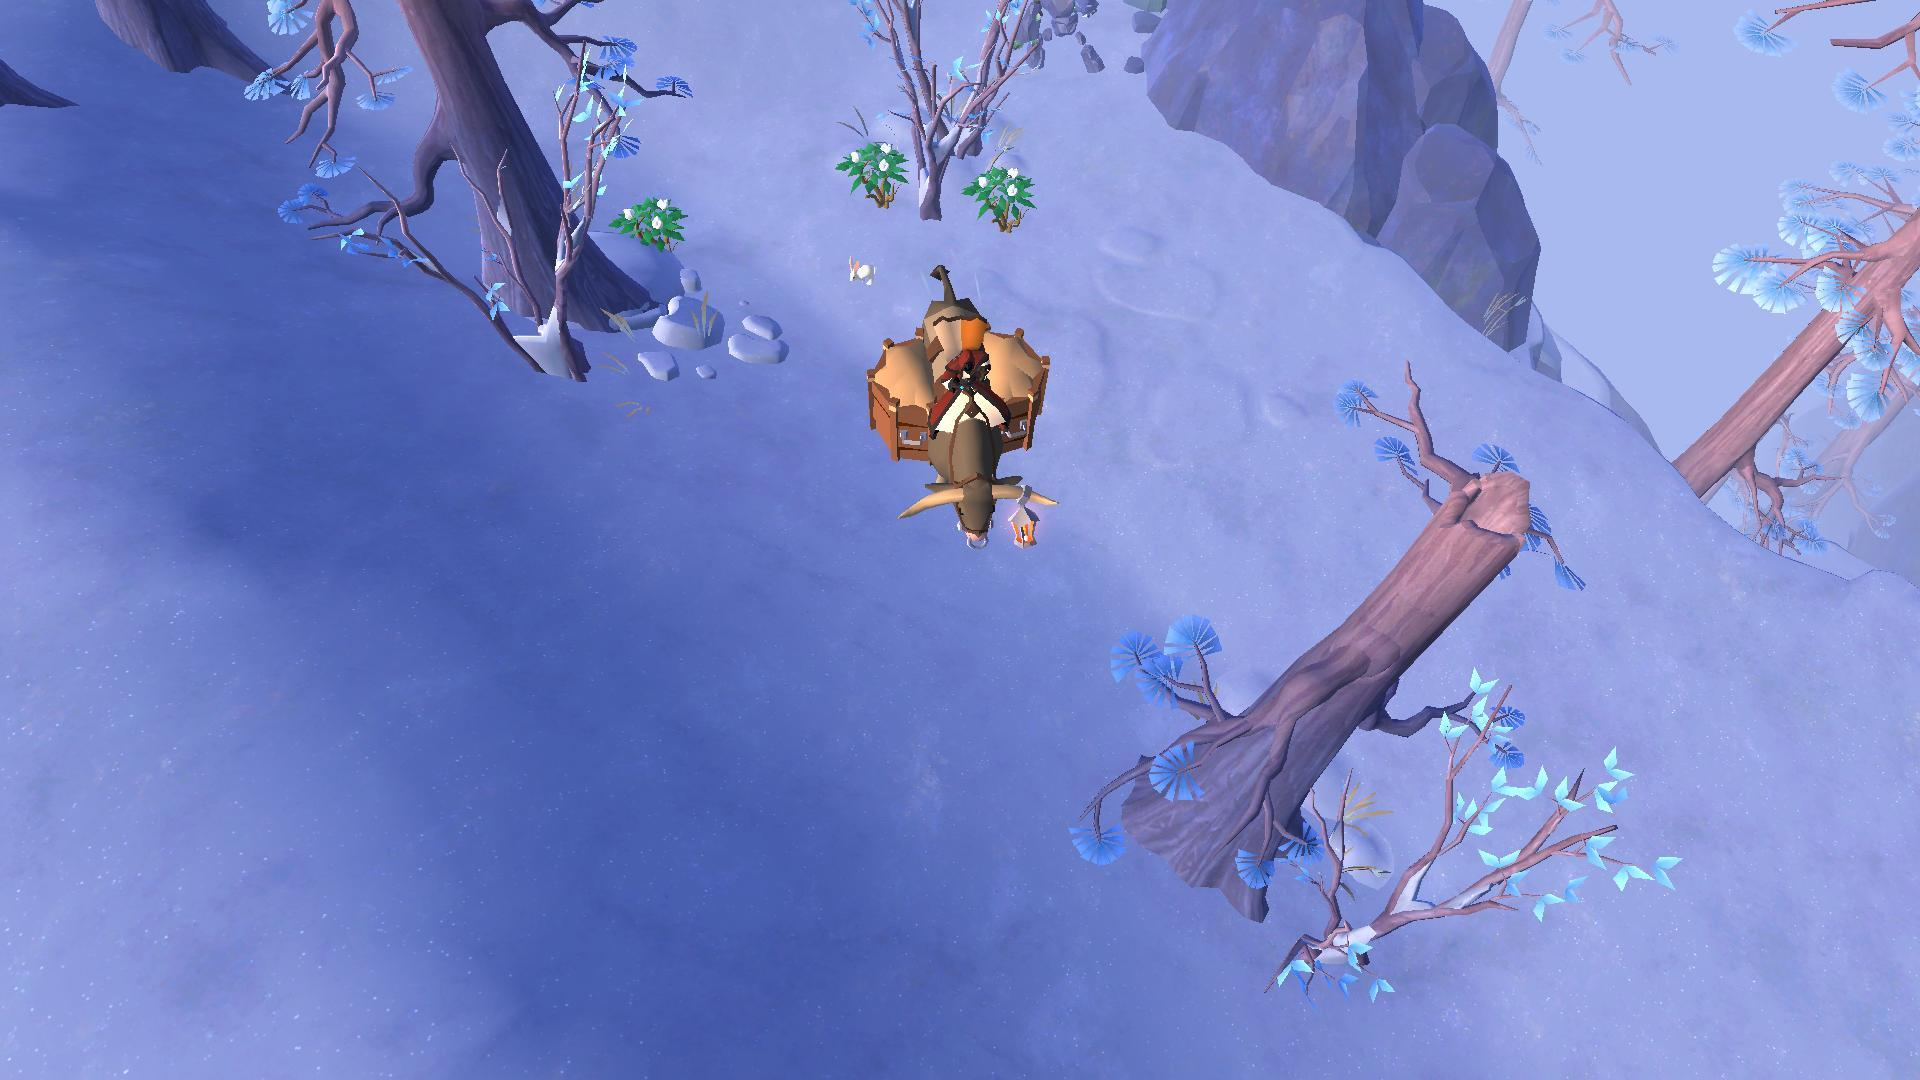fiber_t3: (959, 160, 1047, 237), (835, 135, 909, 210), (611, 191, 694, 256)
